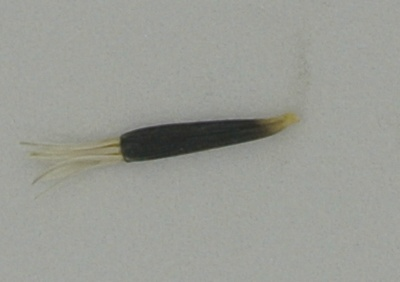เมล็ดดีติดกัน: (53, 99, 306, 170)
